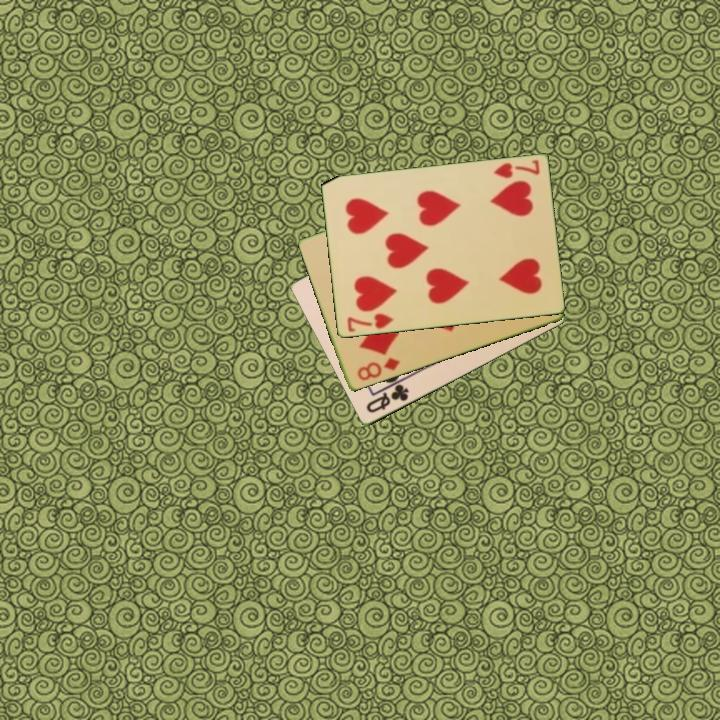7h: (344, 310, 396, 335), (490, 157, 542, 182)
8d: (354, 354, 403, 384)
Qc: (362, 381, 412, 416)
